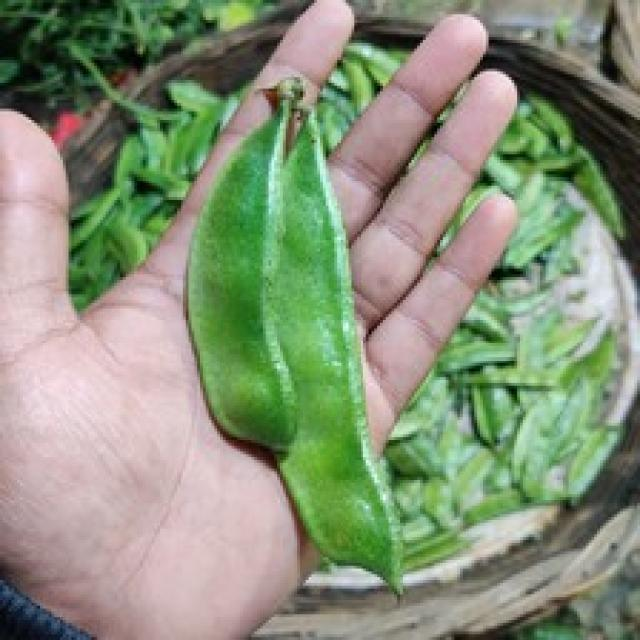Bean: (183, 74, 406, 597)
